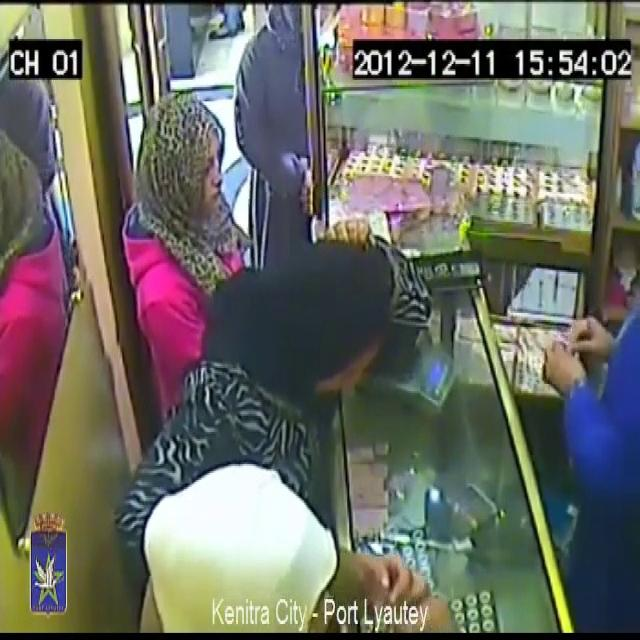Product: (544, 300, 592, 372)
normal: (117, 405, 334, 640), (120, 64, 232, 330), (257, 218, 388, 436)
shoplifting: (533, 230, 640, 638)
